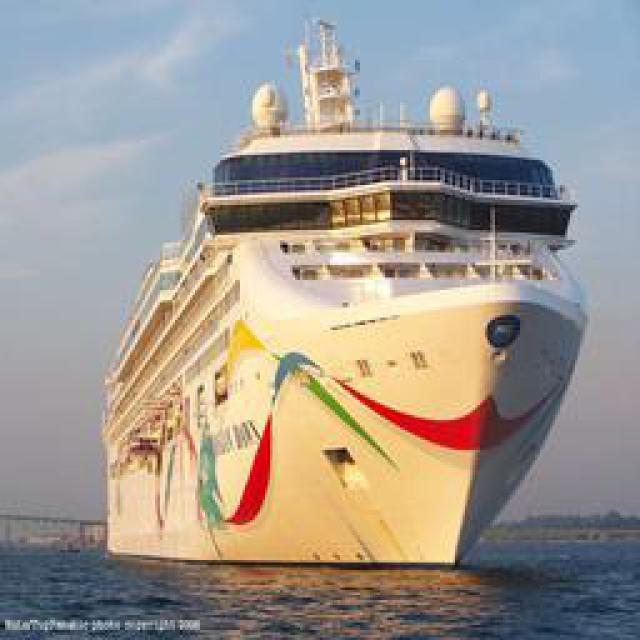Ship: (92, 59, 582, 574)
